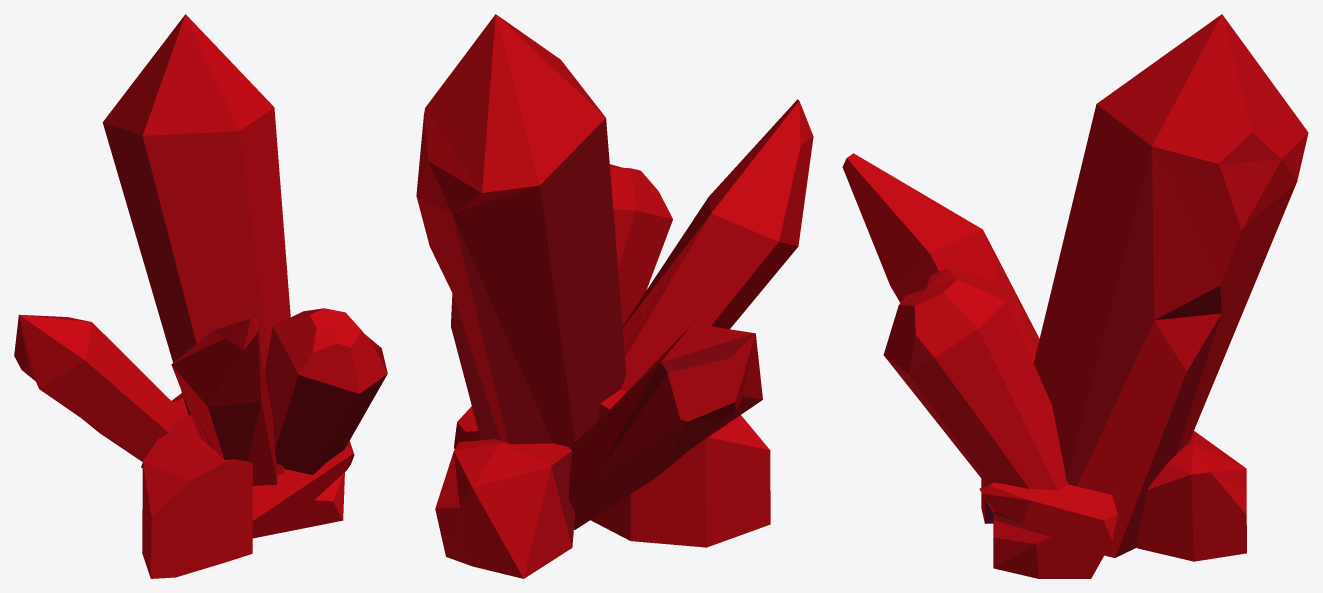
Rendered from Crystall.fbx.
3 views of the same model, side by side, from view 1: azimuth 30°, elevation 25°; view 2: azimuth 150°, elevation 25°; view 3: azimuth 270°, elevation 25° (orthographic). The views are drawn at different scales.
Visible parts, largest first — view 1: Circle; view 2: Circle; view 3: Circle.
Part boxes in pixels (x1,y1,x2,y2): Circle: (14,14,387,578); Circle: (416,14,813,578); Circle: (842,14,1308,578).
Bounding box in the file's own units: 365 × 590 × 463.
